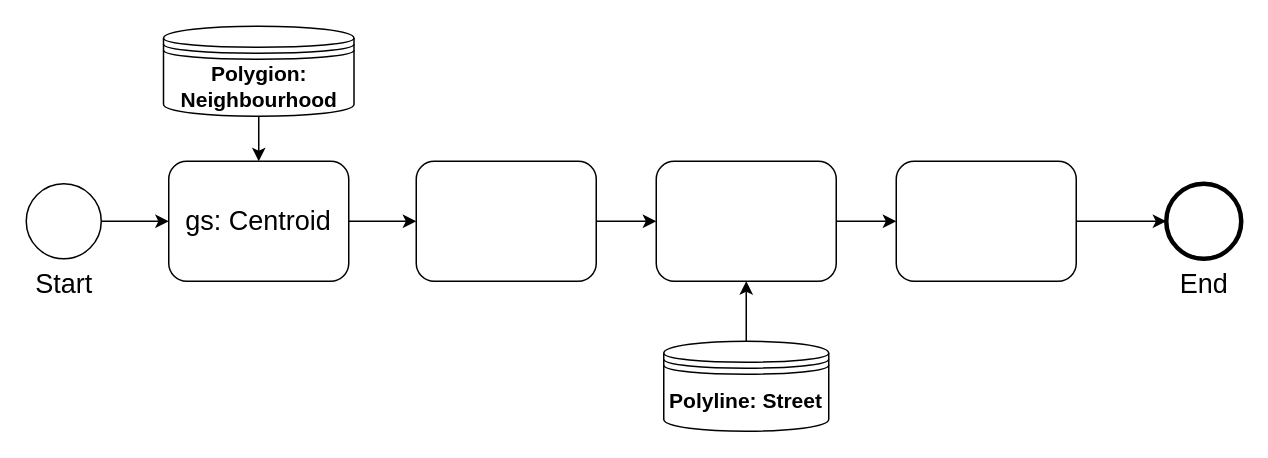
Some shapes in this 1268 by 458 pixel diagram are drawn without their labels. Each missing label, with the box of its shape:
gs: Buffer: (415, 160, 596, 281)
gs: Intersection Feature Collections: (655, 160, 836, 281)
gs: Length: (895, 160, 1076, 281)
